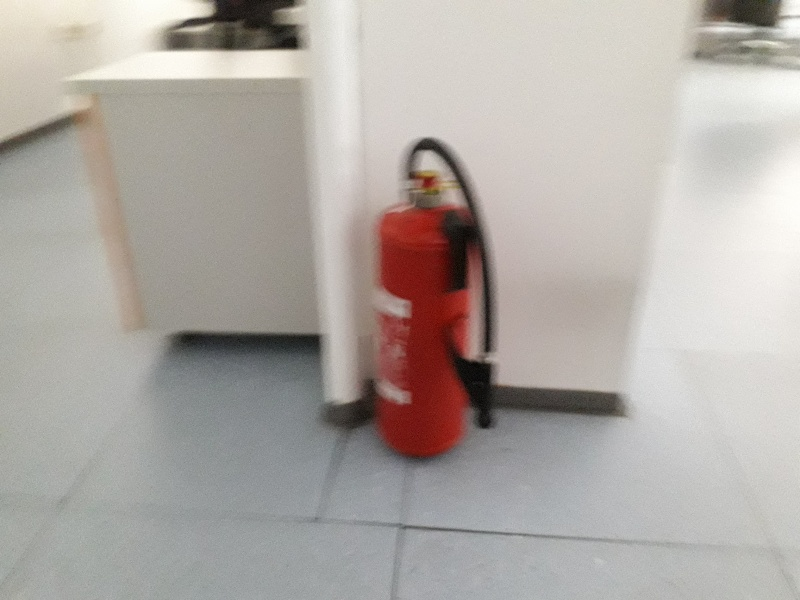vataparat: (375, 139, 495, 458)
